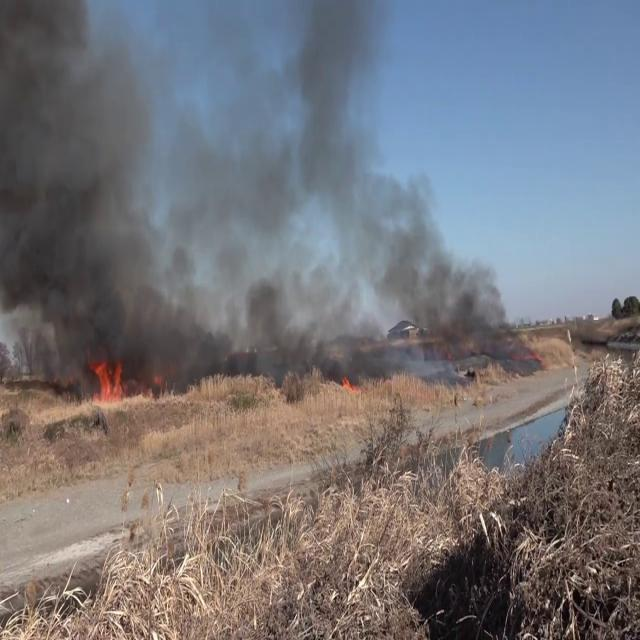Fire: (84, 346, 128, 408)
Smoke: (208, 1, 522, 366), (0, 0, 220, 390)
